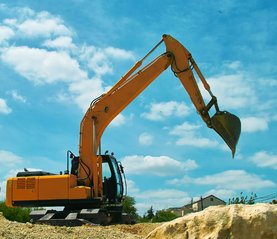excavator: (4, 31, 246, 227)
